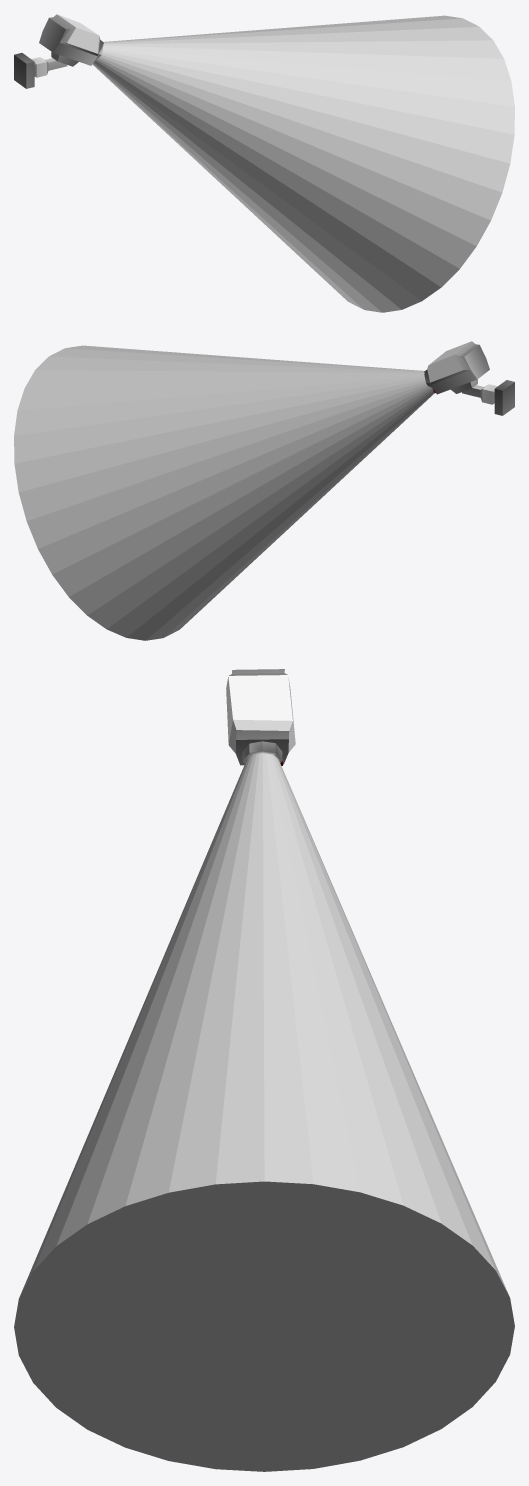
The model's file is Camera_FBX.fbx.
3 renders of one model, top to bottom at view 1: azimuth 30°, elevation 25°; view 2: azimuth 150°, elevation 25°; view 3: azimuth 270°, elevation 25°, orthographic. The views are drawn at different scales.
Visible parts, largest first — view 1: VISION_CONE, SM_Prop_Camera_Head_01.003, SM_Prop_Camera_01.003; view 2: VISION_CONE, SM_Prop_Camera_Head_01.003, SM_Prop_Camera_01.003; view 3: VISION_CONE, SM_Prop_Camera_Head_01.003.
Part boxes in pixels (<box>): VISION_CONE: <box>92,15,514,312</box>; SM_Prop_Camera_Head_01.003: <box>39,14,103,66</box>; SM_Prop_Camera_01.003: <box>14,53,67,88</box>; VISION_CONE: <box>14,345,434,640</box>; SM_Prop_Camera_Head_01.003: <box>424,341,489,394</box>; SM_Prop_Camera_01.003: <box>462,380,514,415</box>; VISION_CONE: <box>14,753,514,1471</box>; SM_Prop_Camera_Head_01.003: <box>226,669,295,765</box>.
Size of the model in its own units: 737 by 537 by 426.
